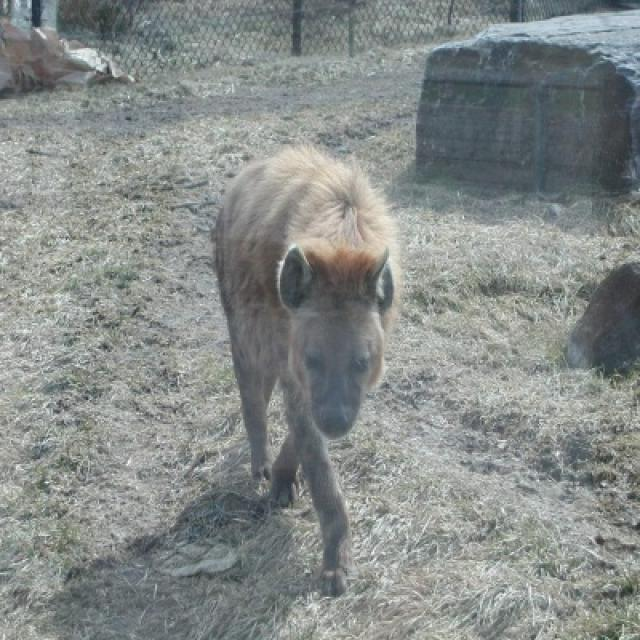hyena: (214, 144, 400, 598)
